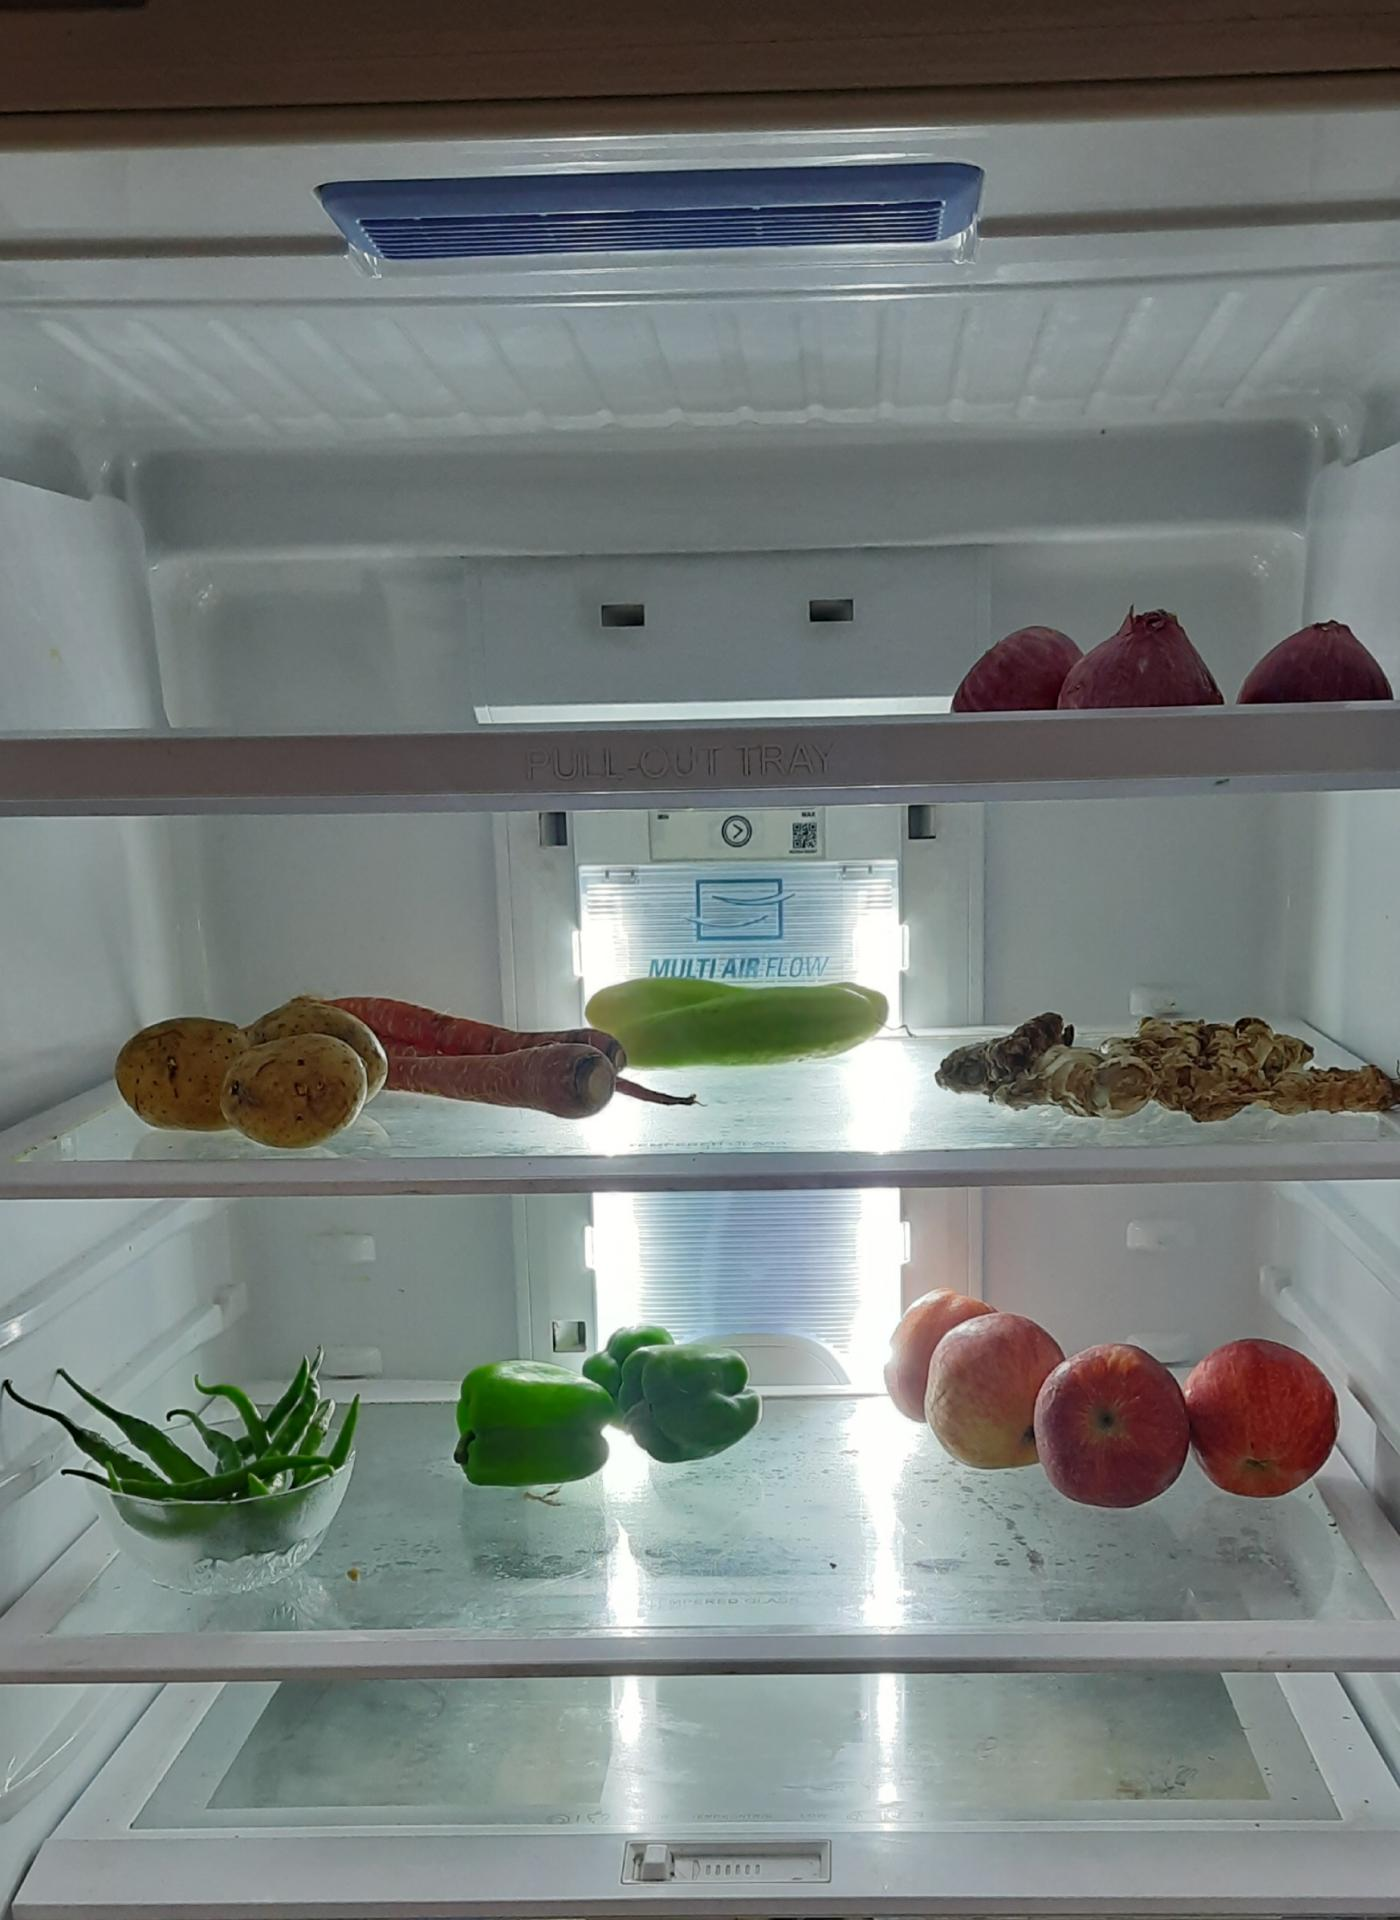apple: (889, 1291, 1340, 1512)
capsicum: (458, 1330, 762, 1486)
carrots: (332, 975, 640, 1105)
chillies: (10, 1371, 362, 1541)
cucumber: (578, 979, 909, 1067)
ginger: (942, 1014, 1400, 1115)
onion: (963, 604, 1385, 716)
potato: (112, 999, 389, 1149)
